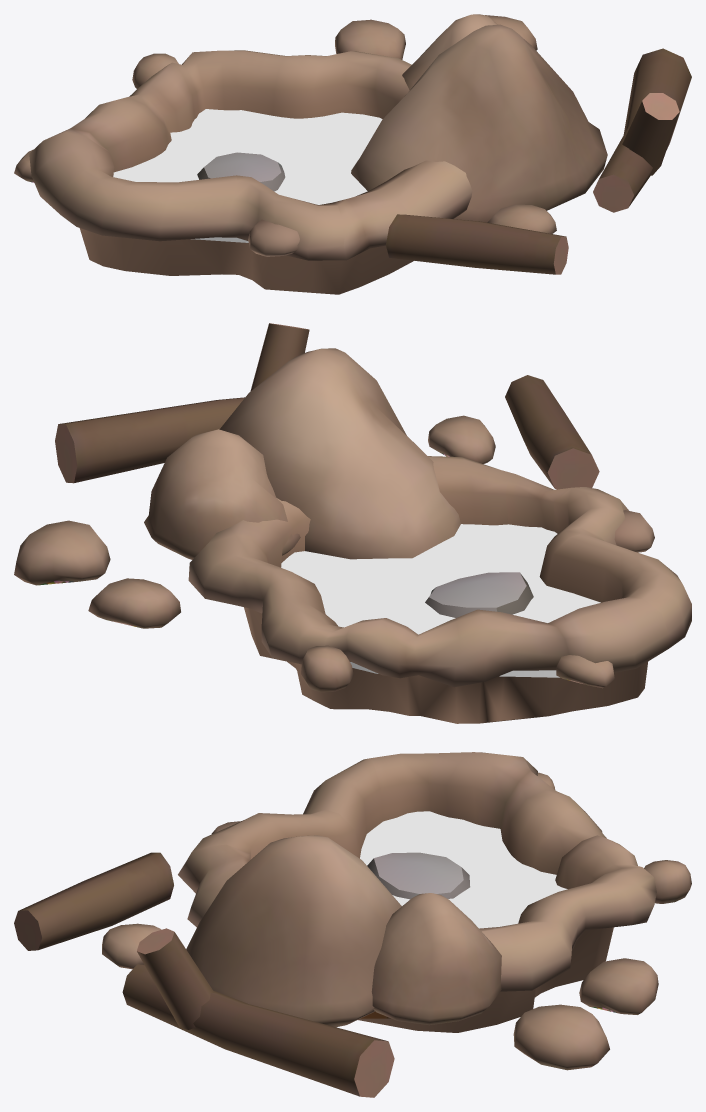
The model's file is NPC_Ground_001.glb.
3 renders of one model, top to bottom at view 1: azimuth 30°, elevation 25°; view 2: azimuth 150°, elevation 25°; view 3: azimuth 270°, elevation 25°, orthographic. The views are drawn at different scales.
Parts seen in each view (by area): view 1: PR_ground_001_mesh, PR_ground_001_st_mesh; view 2: PR_ground_001_mesh, PR_ground_001_st_mesh; view 3: PR_ground_001_mesh, PR_ground_001_st_mesh.
Boxes of the visible parts, <box> form: PR_ground_001_mesh: <box>14,14,691,294</box>; PR_ground_001_st_mesh: <box>113,109,382,242</box>; PR_ground_001_mesh: <box>14,323,691,723</box>; PR_ground_001_st_mesh: <box>281,524,600,677</box>; PR_ground_001_mesh: <box>14,752,691,1097</box>; PR_ground_001_st_mesh: <box>360,811,567,928</box>.
Size of the model in its own units: 3.67 by 1.15 by 3.33.
Materials: 2 (1 with a texture image).
